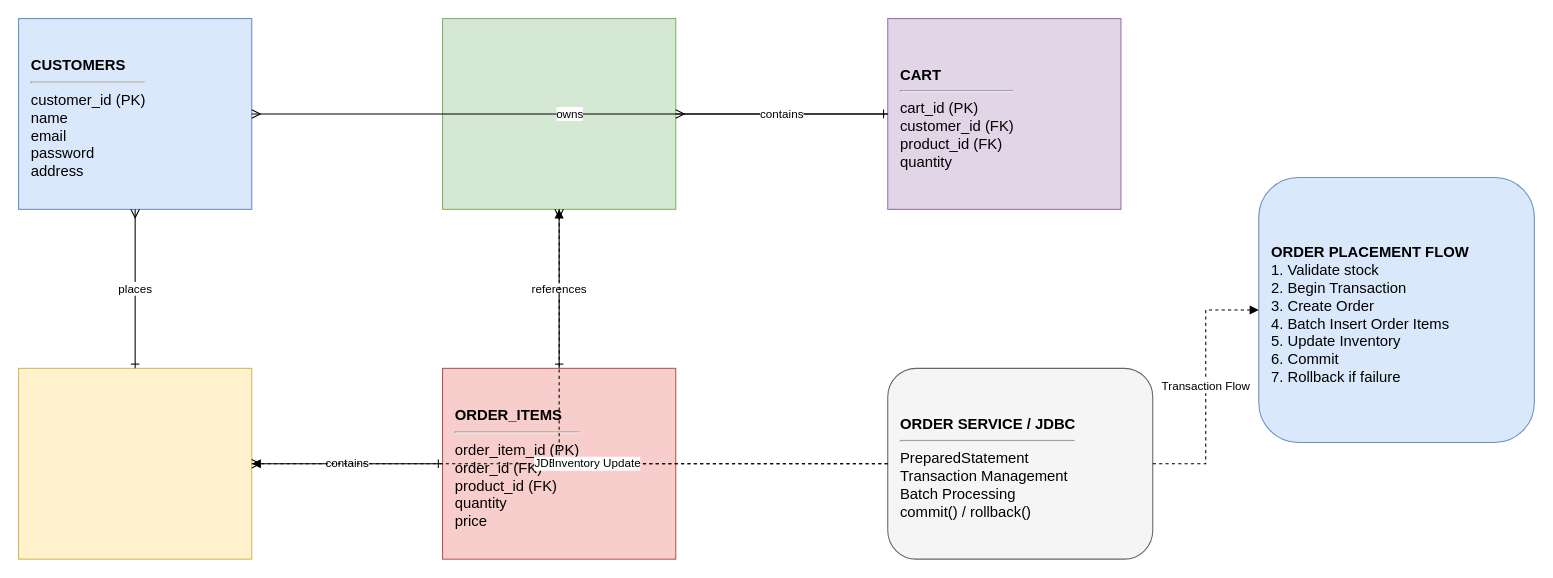
This 1553x578 diagram has some shape labels left out. Here are the shapes that lost their labels. From the top down, the centre of each, then its label:
(558,113): PRODUCTS product_id (PK) name description price stock_quantity
(134,463): ORDERS order_id (PK) customer_id (FK) order_date total_amount status
